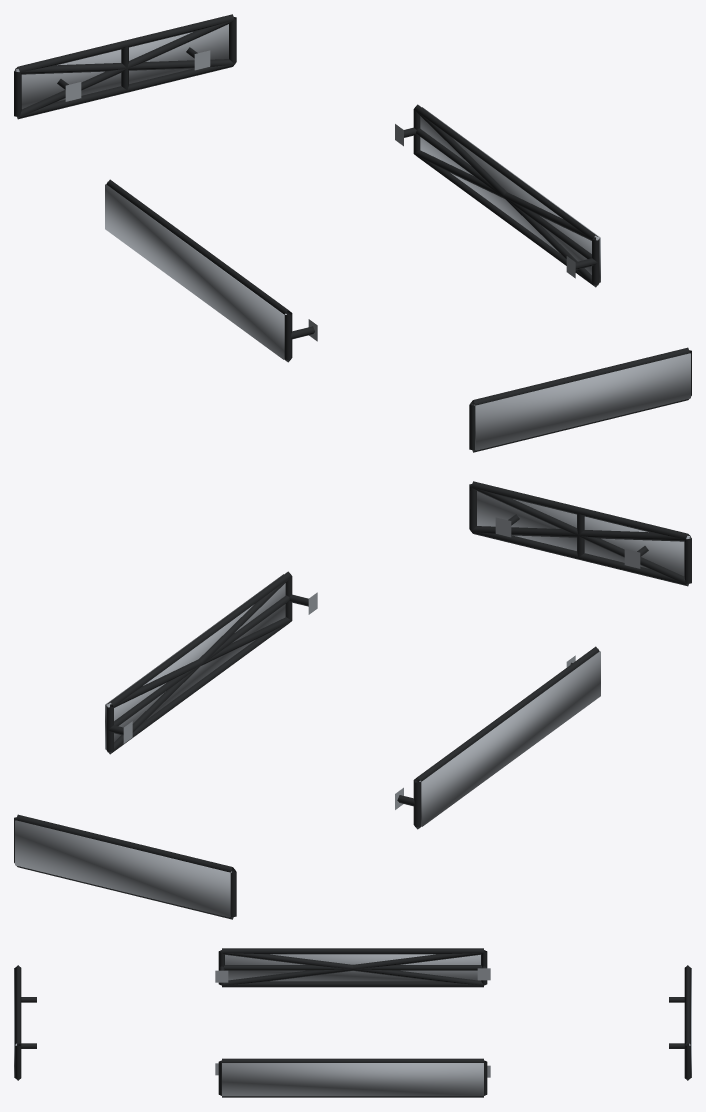
File: ashworth_cerimonial_protecao.glb
3 renders of one model, top to bottom at view 1: azimuth 30°, elevation 25°; view 2: azimuth 150°, elevation 25°; view 3: azimuth 270°, elevation 25°, orthographic. The views are drawn at different scales.
Parts seen in each view (by area): view 1: Protection_front_Level3_Details, Protection_left_Level3_Details, Protection_rear_Level1_Details, Protection_rear_Level3_Details, Protection_right_Level1_Details, Protection_right_Level2_Details, Protection_right_Level3_Details, Protection_rear_Level2_Details, Protection_front_Level1_Details, Protection_left_Level1_Details; view 2: Protection_rear_Level3_Details, Protection_left_Level3_Details, Protection_front_Level1_Details, Protection_front_Level3_Details, Protection_right_Level1_Details, Protection_right_Level2_Details, Protection_right_Level3_Details, Protection_front_Level2_Details, Protection_rear_Level1_Details, Protection_left_Level1_Details; view 3: Protection_right_Level3_Details, Protection_left_Level2_Details, Protection_left_Level1_Details, Protection_left_Level3_Details, Protection_right_Level1_Details, Protection_rear_Level1_Details, Protection_front_Level1_Details.
Boxes of the visible parts, <box> form: Protection_front_Level3_Details: <box>474,353,690,450</box>; Protection_left_Level3_Details: <box>105,184,286,359</box>; Protection_rear_Level1_Details: <box>14,14,236,119</box>; Protection_rear_Level3_Details: <box>15,24,228,109</box>; Protection_right_Level1_Details: <box>395,104,599,287</box>; Protection_right_Level2_Details: <box>414,110,597,286</box>; Protection_right_Level3_Details: <box>420,107,600,282</box>; Protection_rear_Level2_Details: <box>16,20,234,118</box>; Protection_front_Level1_Details: <box>469,347,691,452</box>; Protection_left_Level1_Details: <box>106,179,317,362</box>; Protection_rear_Level3_Details: <box>15,820,231,917</box>; Protection_left_Level3_Details: <box>419,651,600,826</box>; Protection_front_Level1_Details: <box>469,481,691,586</box>; Protection_front_Level3_Details: <box>477,491,690,576</box>; Protection_right_Level1_Details: <box>106,571,317,754</box>; Protection_right_Level2_Details: <box>108,577,291,753</box>; Protection_right_Level3_Details: <box>105,574,285,749</box>; Protection_front_Level2_Details: <box>471,487,689,585</box>; Protection_rear_Level1_Details: <box>14,814,236,919</box>; Protection_left_Level1_Details: <box>395,646,599,829</box>; Protection_right_Level3_Details: <box>222,1063,483,1096</box>; Protection_left_Level2_Details: <box>221,950,484,985</box>; Protection_left_Level1_Details: <box>215,948,490,987</box>; Protection_left_Level3_Details: <box>225,954,480,981</box>; Protection_right_Level1_Details: <box>215,1058,490,1097</box>; Protection_rear_Level1_Details: <box>669,965,690,1080</box>; Protection_front_Level1_Details: <box>15,965,36,1080</box>.
Size of the model in its own units: 2.23 by 0.354 by 5.61.
Materials: 1 (1 with a texture image).
